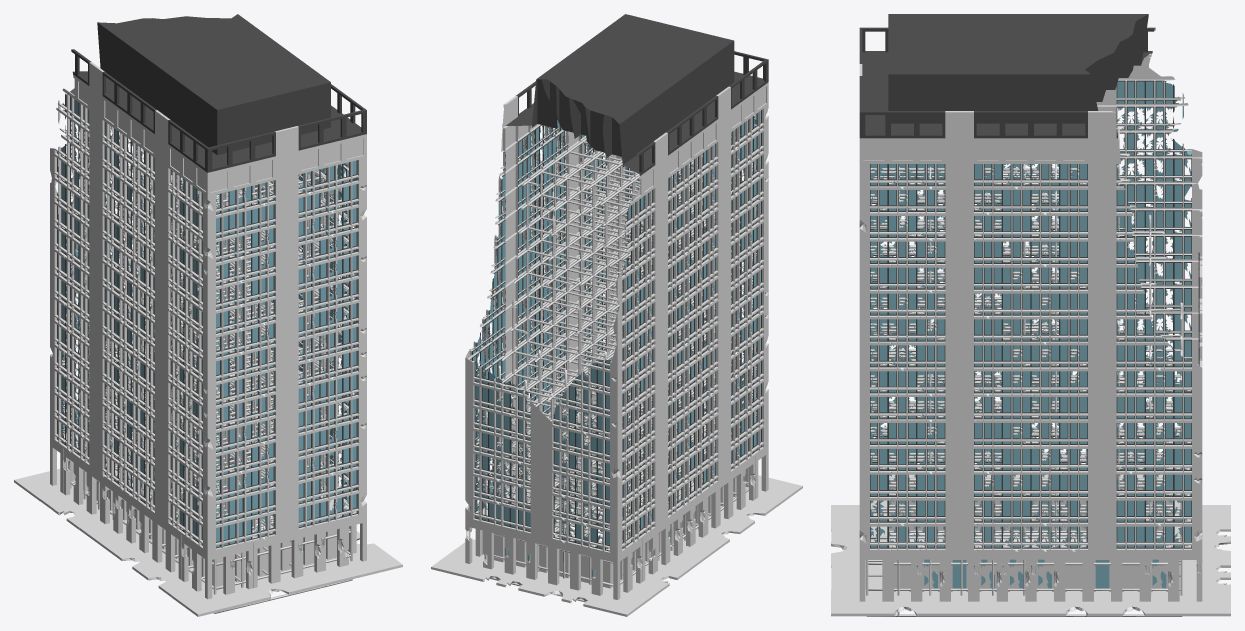
Rendered from building6.fbx.
3 renders of one model, left to right at view 1: azimuth 30°, elevation 25°; view 2: azimuth 150°, elevation 25°; view 3: azimuth 270°, elevation 25°, orthographic. The views are drawn at different scales.
Visible parts, largest first — view 1: Building #1 outer, Building #1 inner; view 2: Building #1 outer, Building #1 inner; view 3: Building #1 outer, Building #1 inner.
Boxes of the visible parts, x1=… form: Building #1 outer: x1=14, y1=14, x2=402, y2=616; Building #1 inner: x1=69, y1=141, x2=352, y2=613; Building #1 outer: x1=431, y1=14, x2=802, y2=616; Building #1 inner: x1=484, y1=136, x2=755, y2=602; Building #1 outer: x1=831, y1=14, x2=1230, y2=616; Building #1 inner: x1=866, y1=127, x2=1182, y2=616.
Size of the model in its own units: 90 by 207 by 140.
